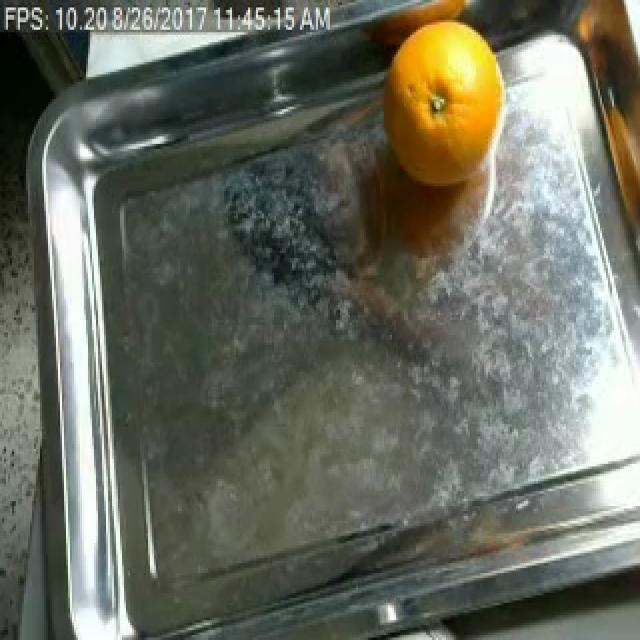Fruit: (362, 2, 524, 211), (588, 74, 640, 286)
